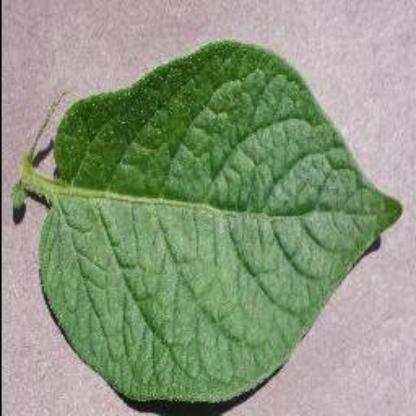Healthy-plant: (39, 40, 393, 408)
